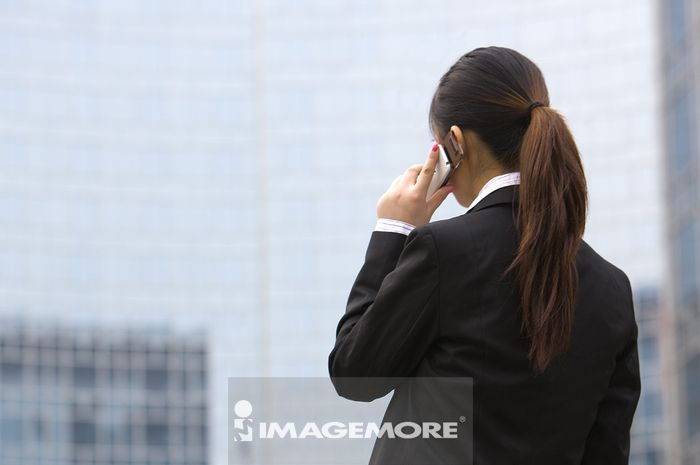phone: (418, 145, 450, 201)
